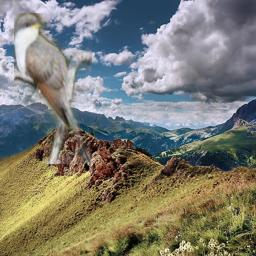Cuckoo: (14, 13, 92, 164)
